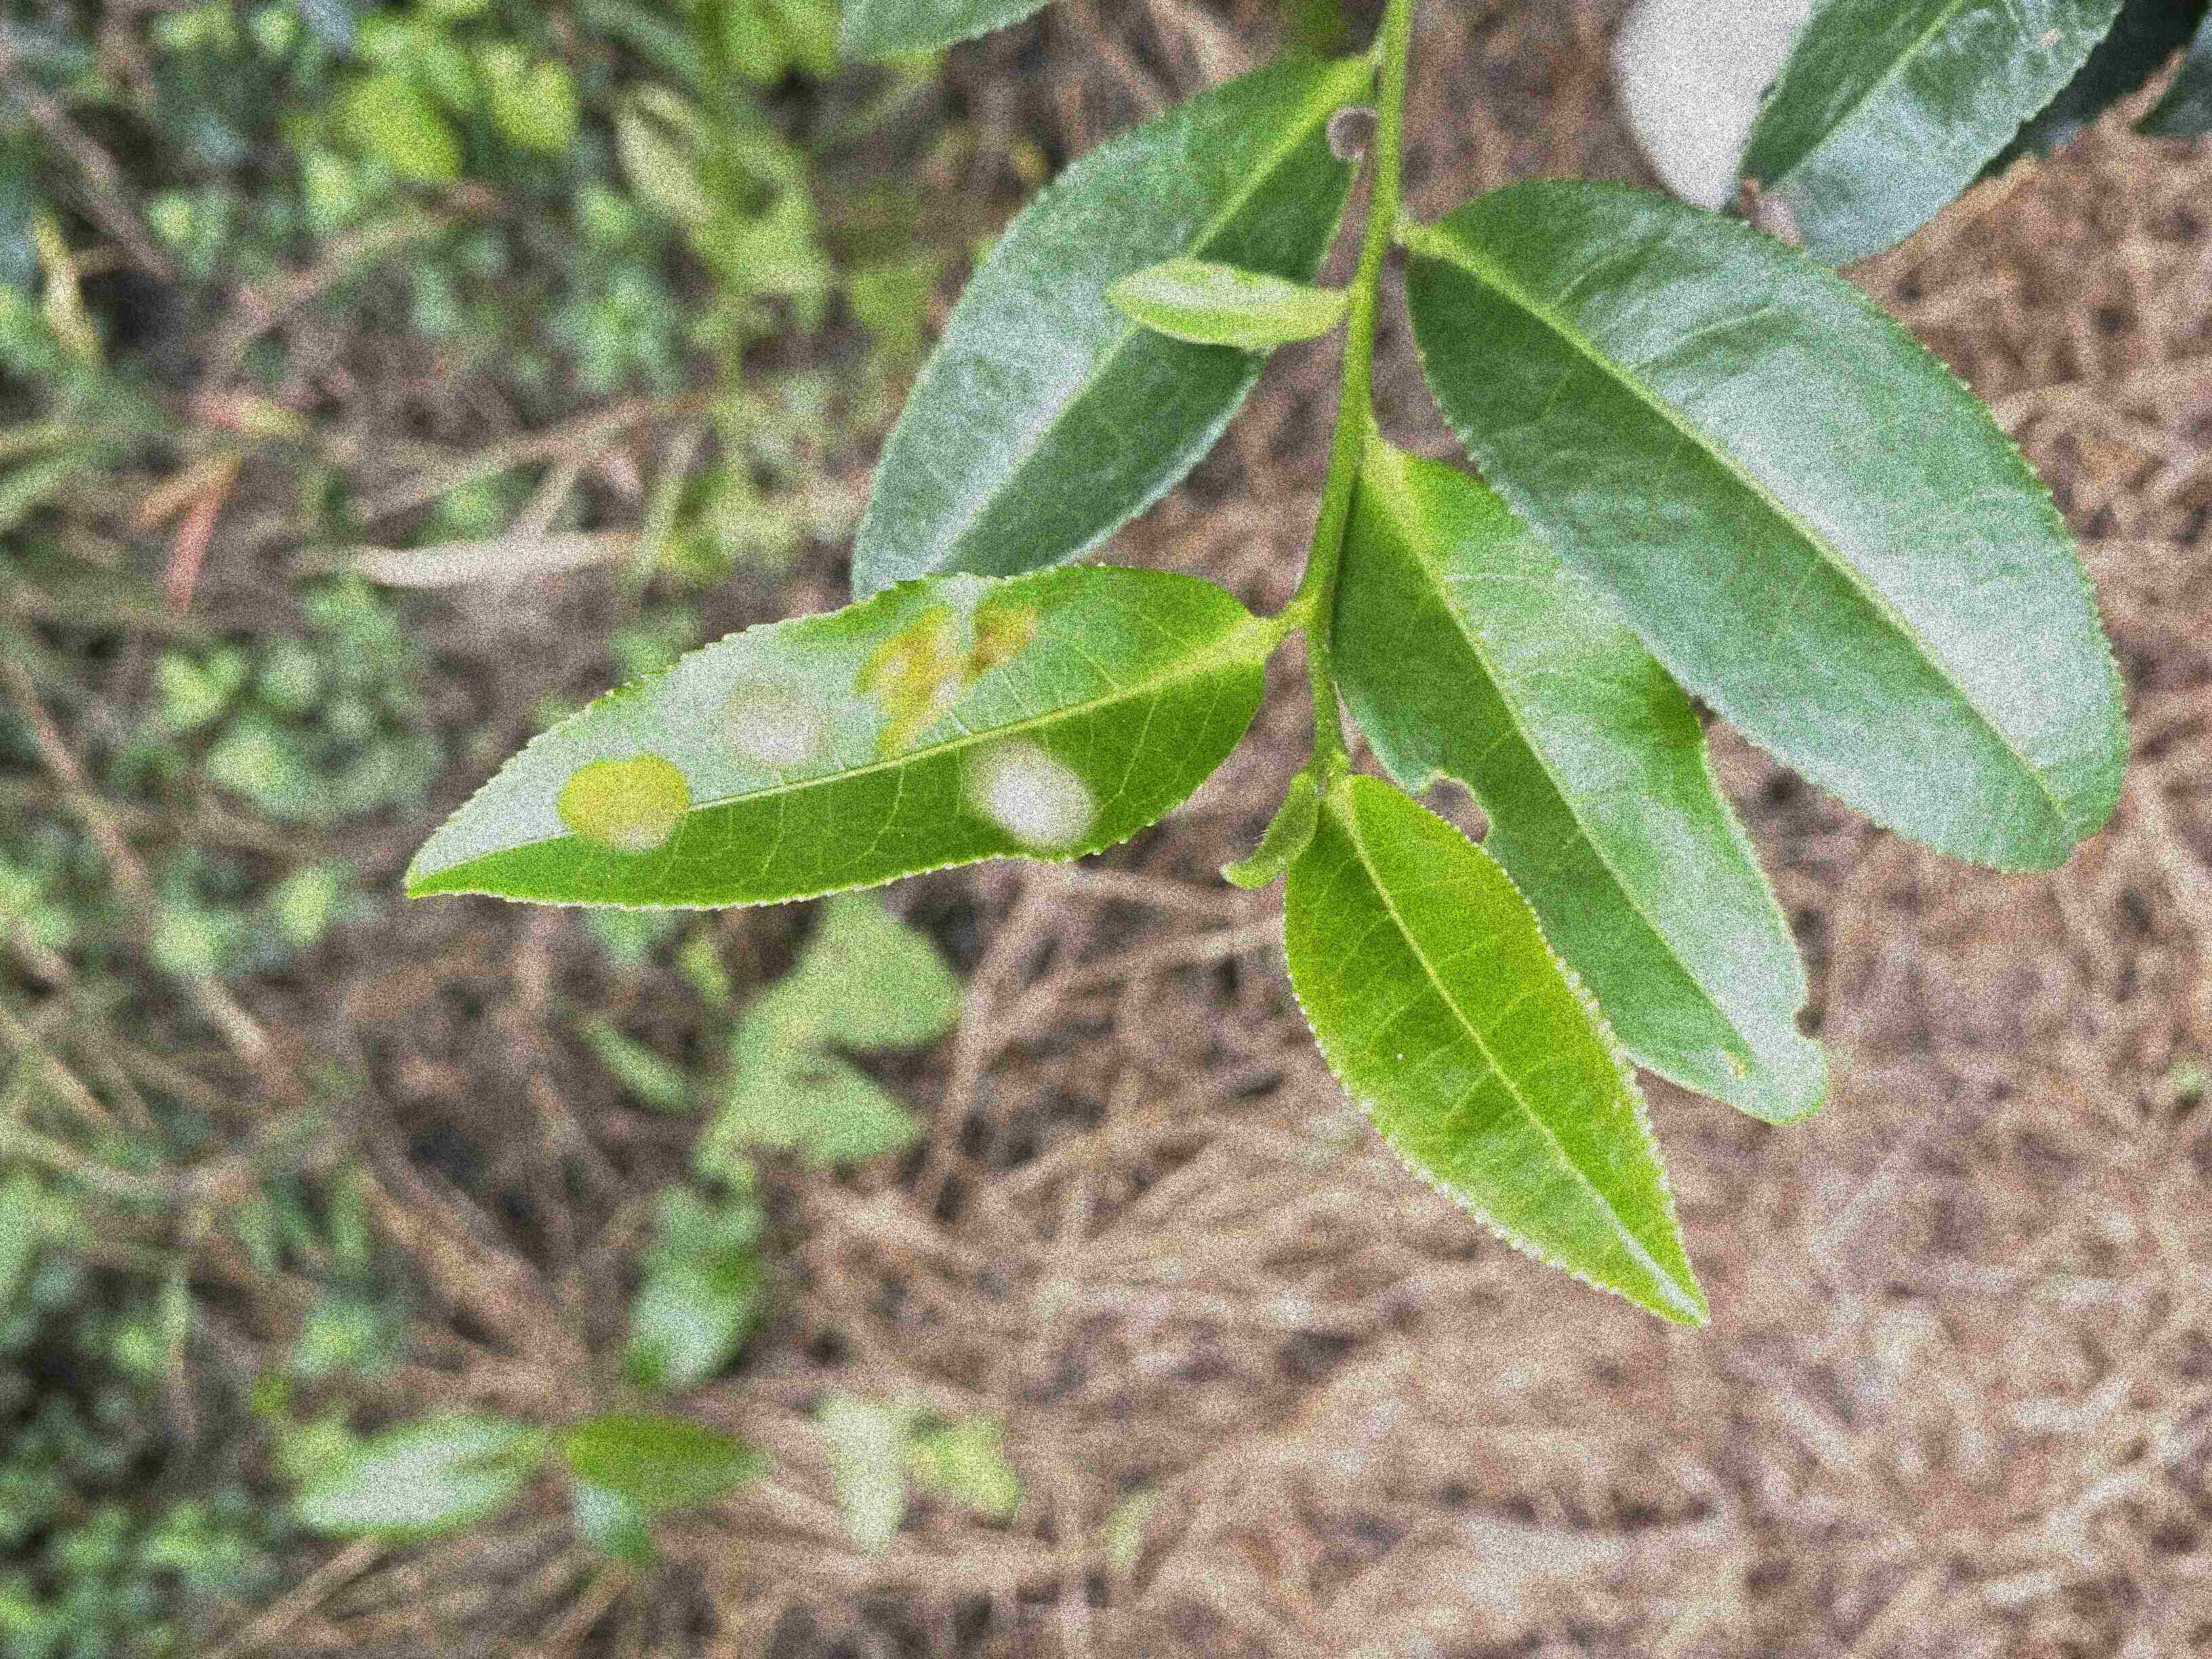chabing_high: (402, 561, 1277, 911)
chihuo_high: (1338, 450, 1836, 1126)
chihuo_low: (846, 56, 1379, 603)
healthy: (1407, 169, 2132, 878), (1280, 765, 1710, 1324), (1109, 258, 1345, 350)
